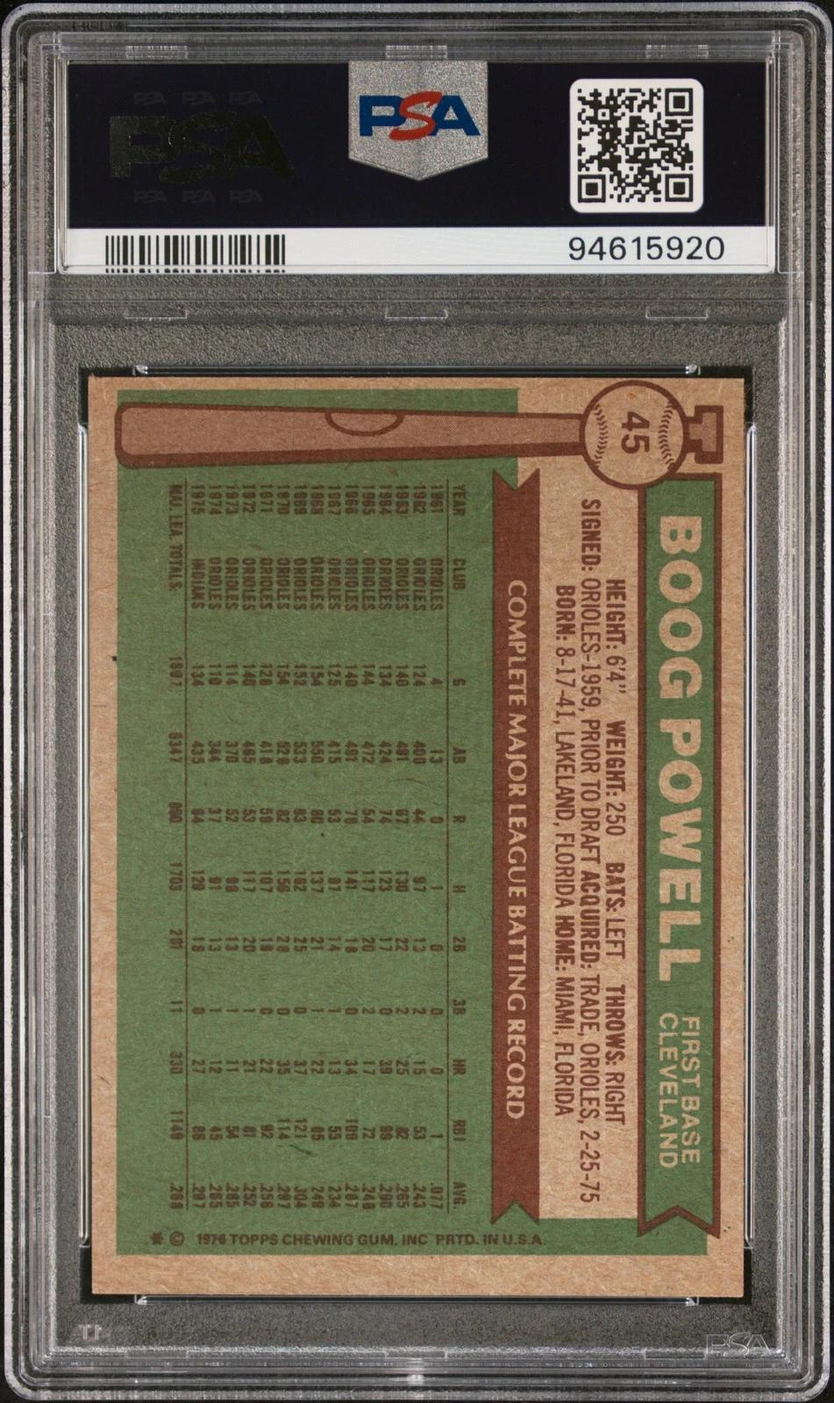card-2UtV: (88, 372, 746, 1298)
